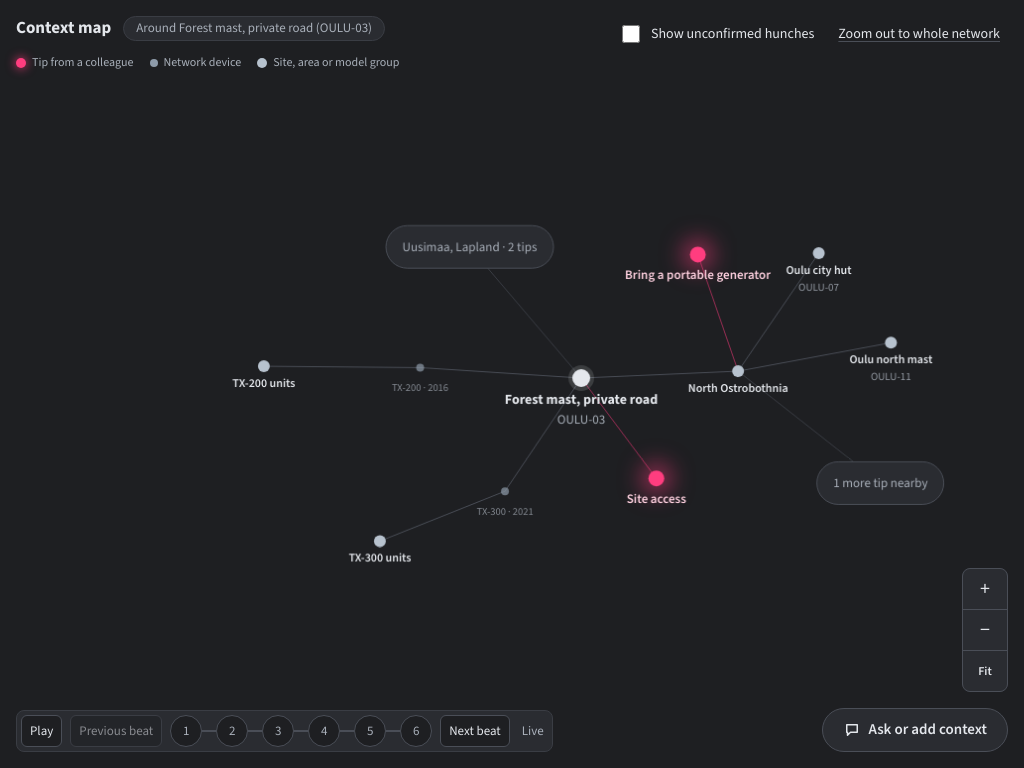
Test case: map page and chat › both scripted exchanges work, and the replied tip gets the ring
Expected: the button "Site access" is shown, left=634, top=456, right=678, bottom=500
Click the button "Ask or add context": (915, 730) left=822, top=708, right=1008, bottom=752
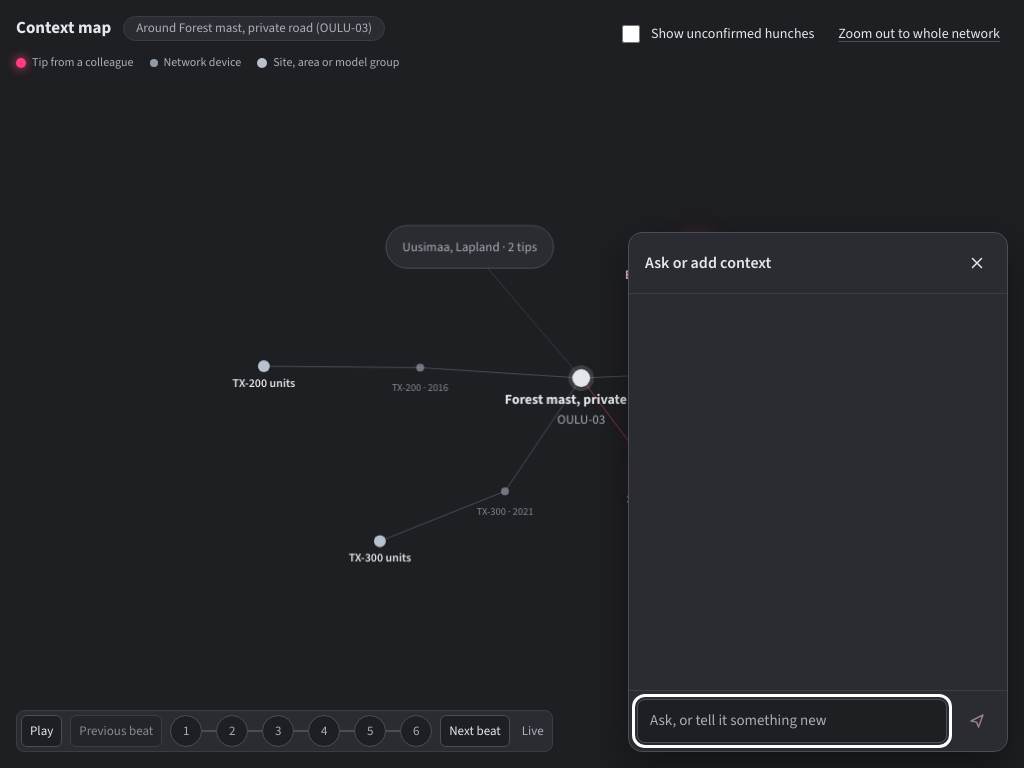
In the field named "Message": (792, 721) left=637, top=699, right=947, bottom=743, type "Anything I should know about OULU-03 before I drive out?"
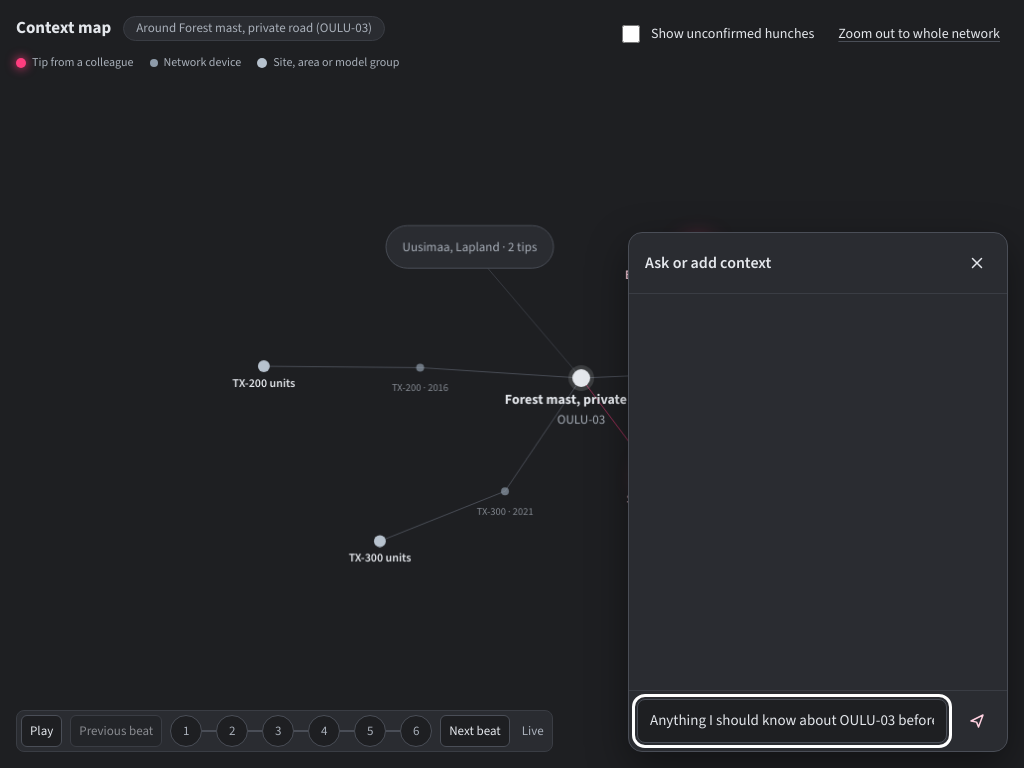
Click the button named "Send": (977, 721) left=955, top=699, right=999, bottom=743
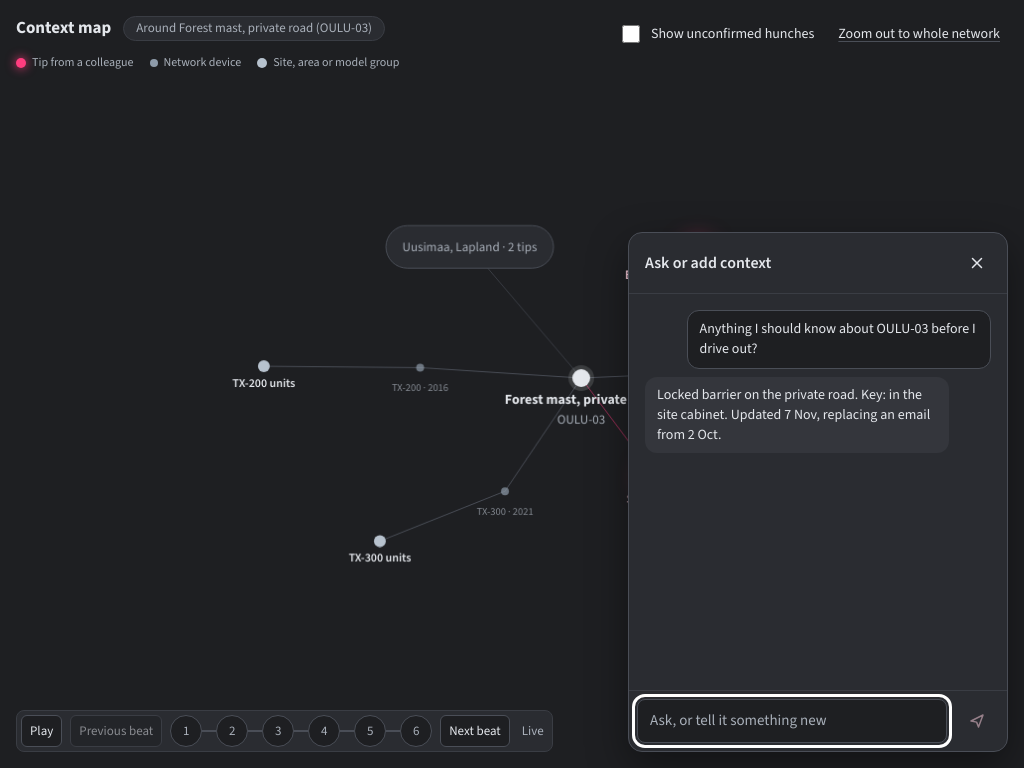
Expected: the list item "Locked barrier on the private road. Key: in the site cabinet. Updated 7 Nov, replacing an email from 2 Oct." is shown, left=657, top=385, right=930, bottom=444
In the field named "Message": (792, 721) left=637, top=699, right=947, bottom=743, type "The key moved, it's in the site cabinet now"
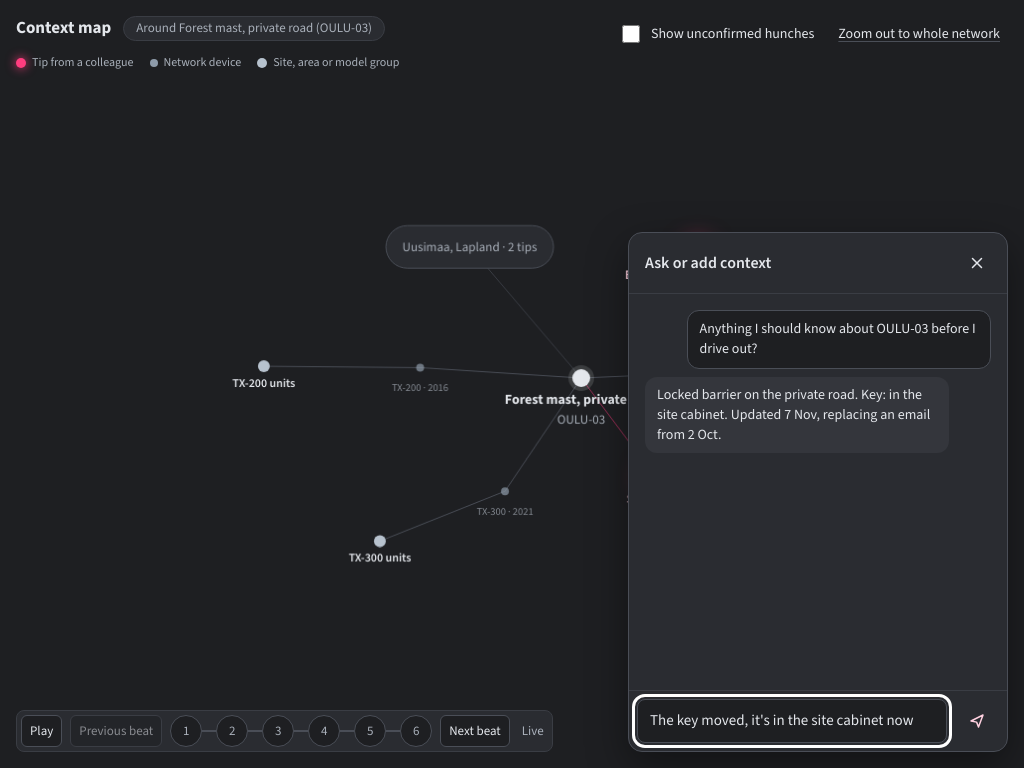
Click the button named "Send": (977, 721) left=955, top=699, right=999, bottom=743
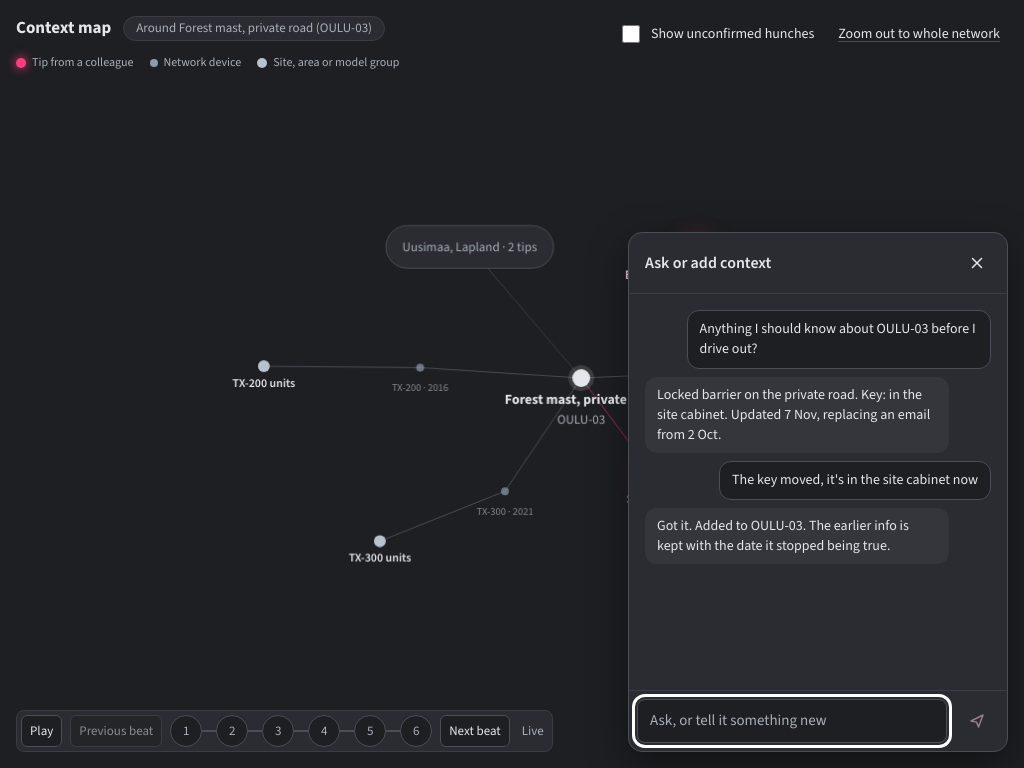
Expected: the list item "Got it. Added to OULU-03. The earlier info is kept with the date it stopped being true." is shown, left=657, top=516, right=909, bottom=555
